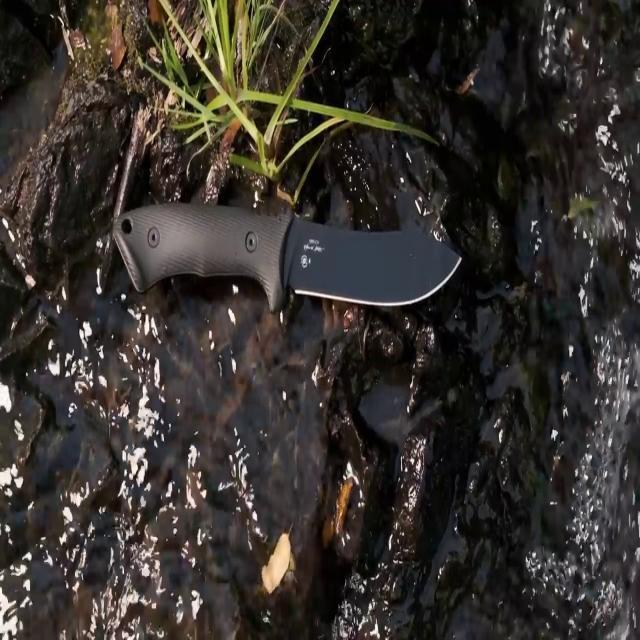Knife: (94, 192, 478, 324)
